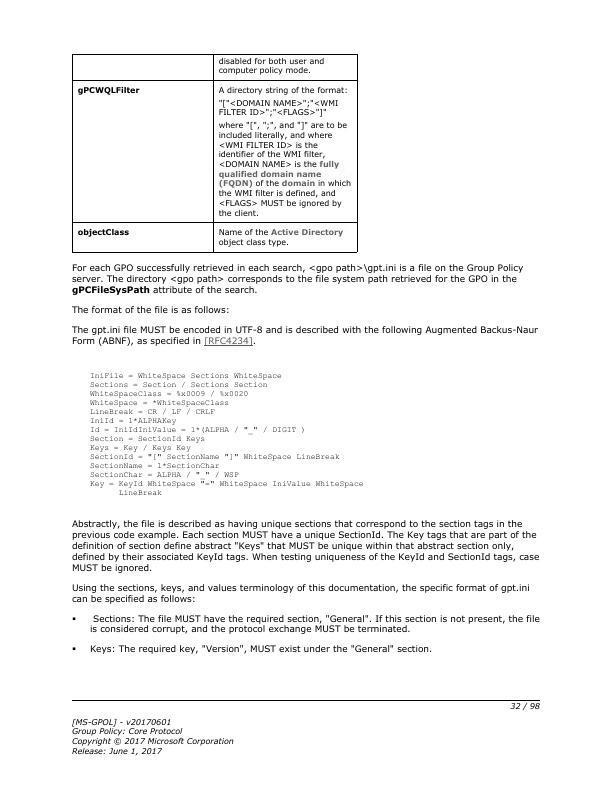table: (72, 53, 357, 253)
text: (84, 369, 368, 497), (68, 517, 547, 576), (69, 261, 527, 295), (68, 322, 545, 349), (68, 582, 535, 604), (87, 614, 542, 636), (68, 715, 235, 759), (85, 643, 435, 657), (69, 302, 235, 315)
